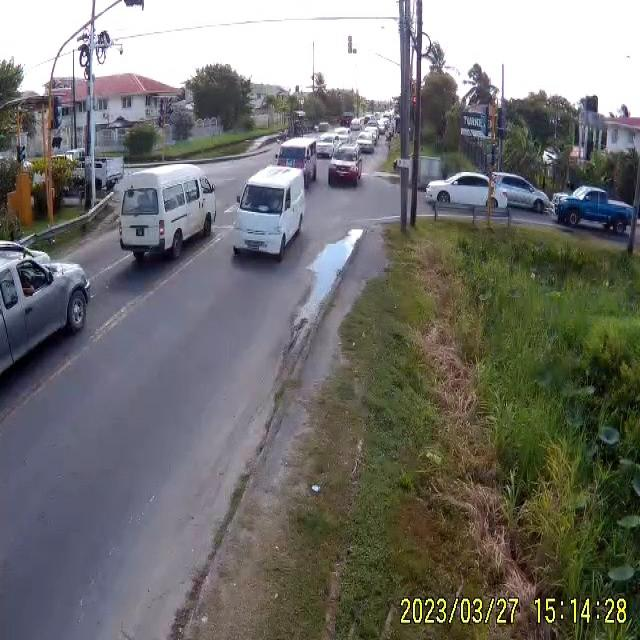car: (1, 236, 92, 435), (117, 167, 216, 260), (234, 167, 308, 261), (555, 188, 637, 234), (491, 174, 551, 216), (426, 172, 494, 207), (278, 139, 318, 184), (326, 154, 361, 188), (356, 129, 378, 156)
